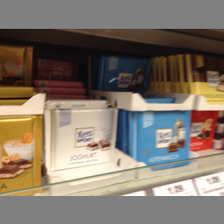chocolate: (43, 110, 121, 173), (128, 112, 193, 170), (1, 116, 47, 196), (97, 56, 156, 95)
